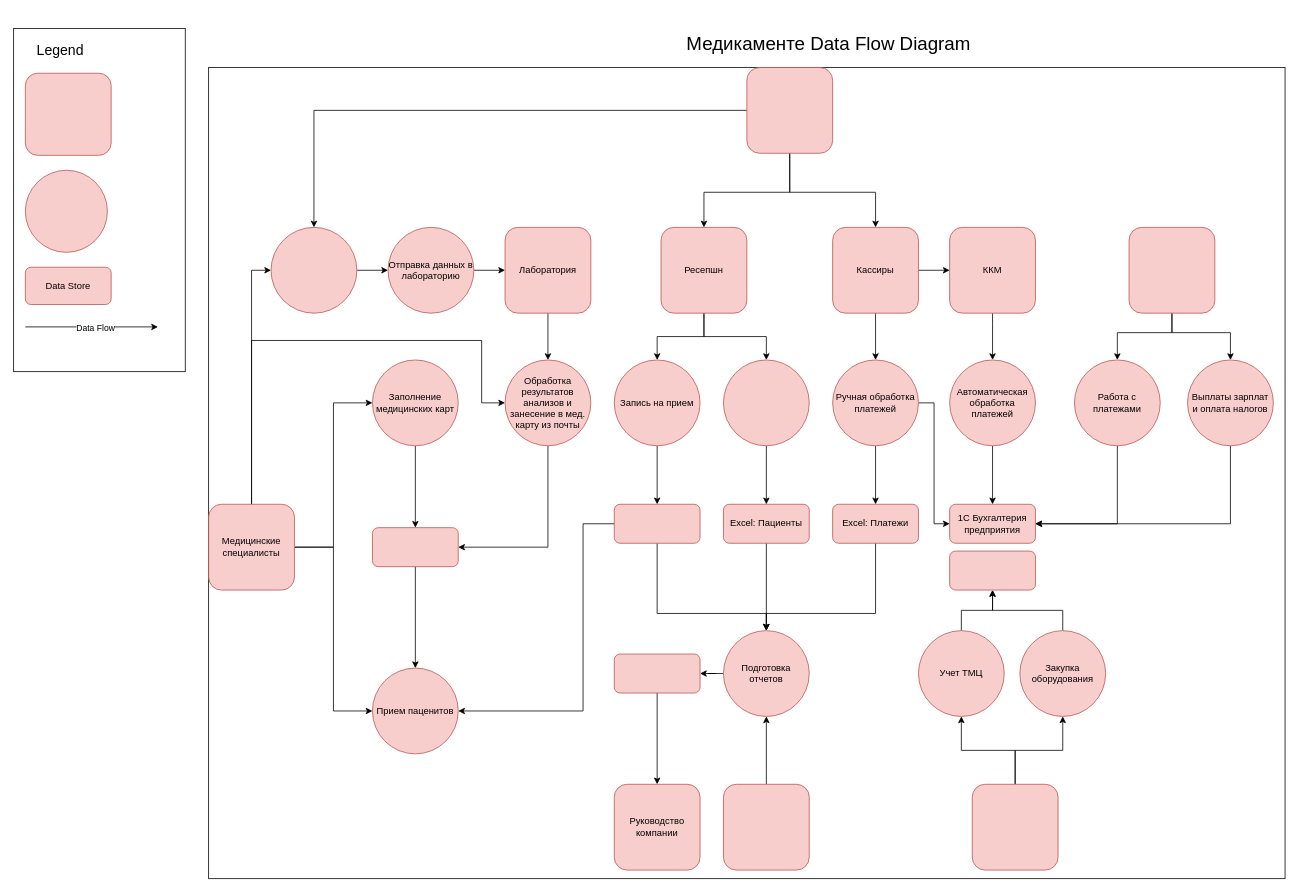
This 1299x892 diagram has some shape labels left out. The shapes that lost their labels are listed below. From the top down, each one's centre as x and y in pixels, then its label:
At [68,113]: "External Entity".
At [789,110]: "Пациент".
At [66,210]: "Process".
At [313,270]: "Назначение и сдача анализов".
At [1171,270]: "Бухгалтерия".
At [766,402]: "Заключение контракта".
At [656,523]: "Excel: Приемы".
At [415,547]: "Медицинские карты".
At [992,570]: "1С Торговля и склад".
At [656,673]: "Excel: Отчеты".
At [766,827]: "IT-отдел".
At [1014,827]: "Сотрудники учета ТМЦ".
